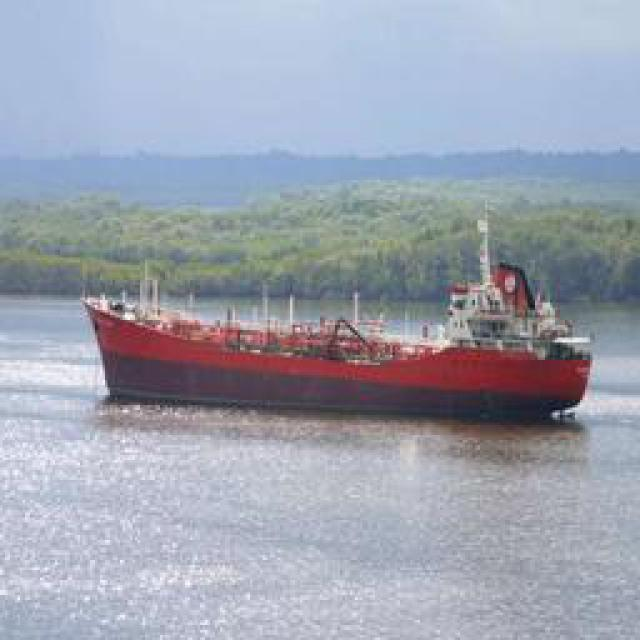Ship: (86, 232, 606, 422)
